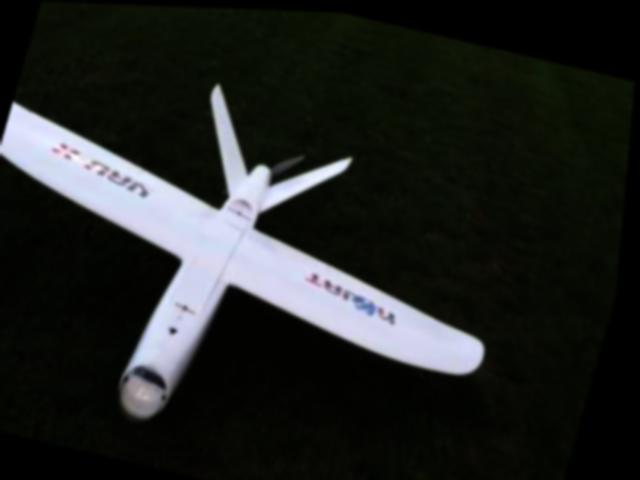uav: (0, 35, 556, 480)
